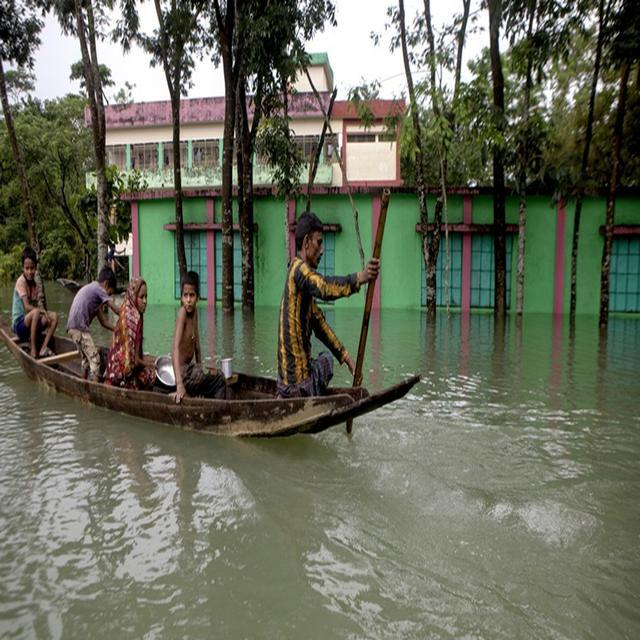Person-RiskLevel3: (271, 213, 369, 398), (160, 272, 220, 404), (66, 258, 111, 395), (107, 277, 152, 395), (14, 244, 59, 361)
